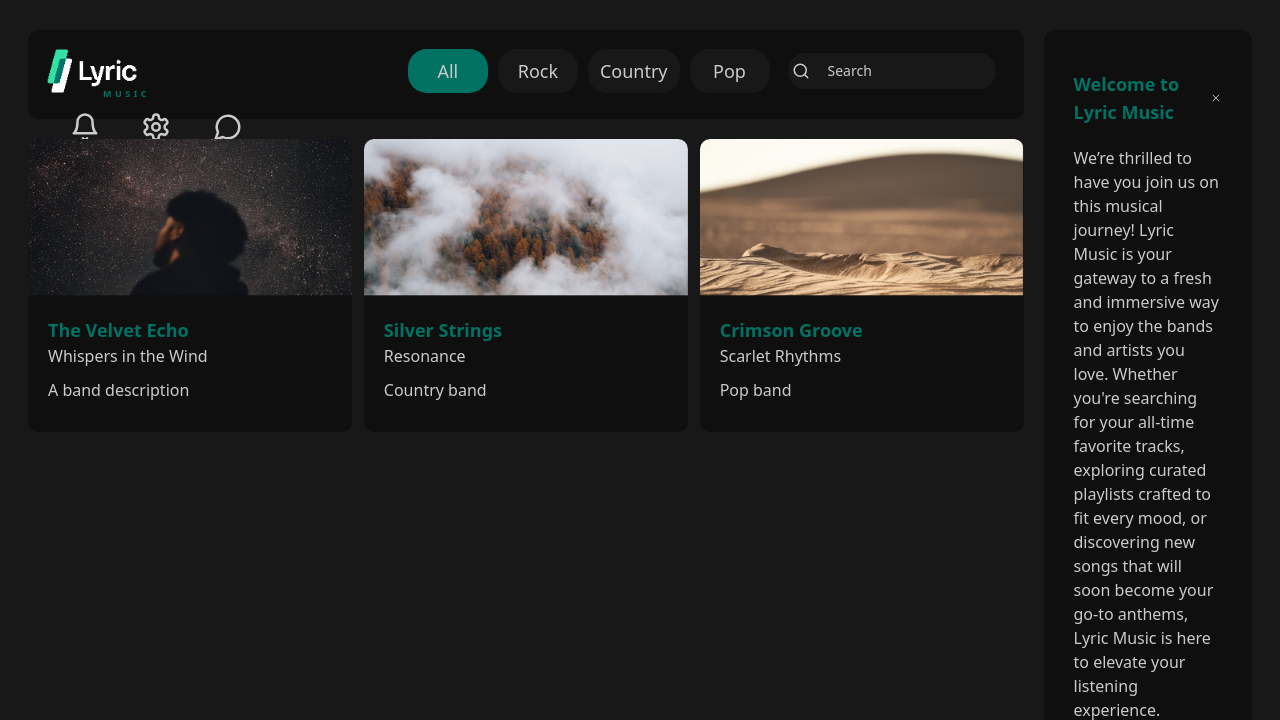
App › filters bands by genre/category when a category is selected
Expected: the heading "The Velvet Echo" is shown, x1=48 y1=318 x2=189 y2=342
# Click on the 'pop' category button
Click the button "pop".
click(730, 71)  # box x1=690 y1=49 x2=770 y2=93
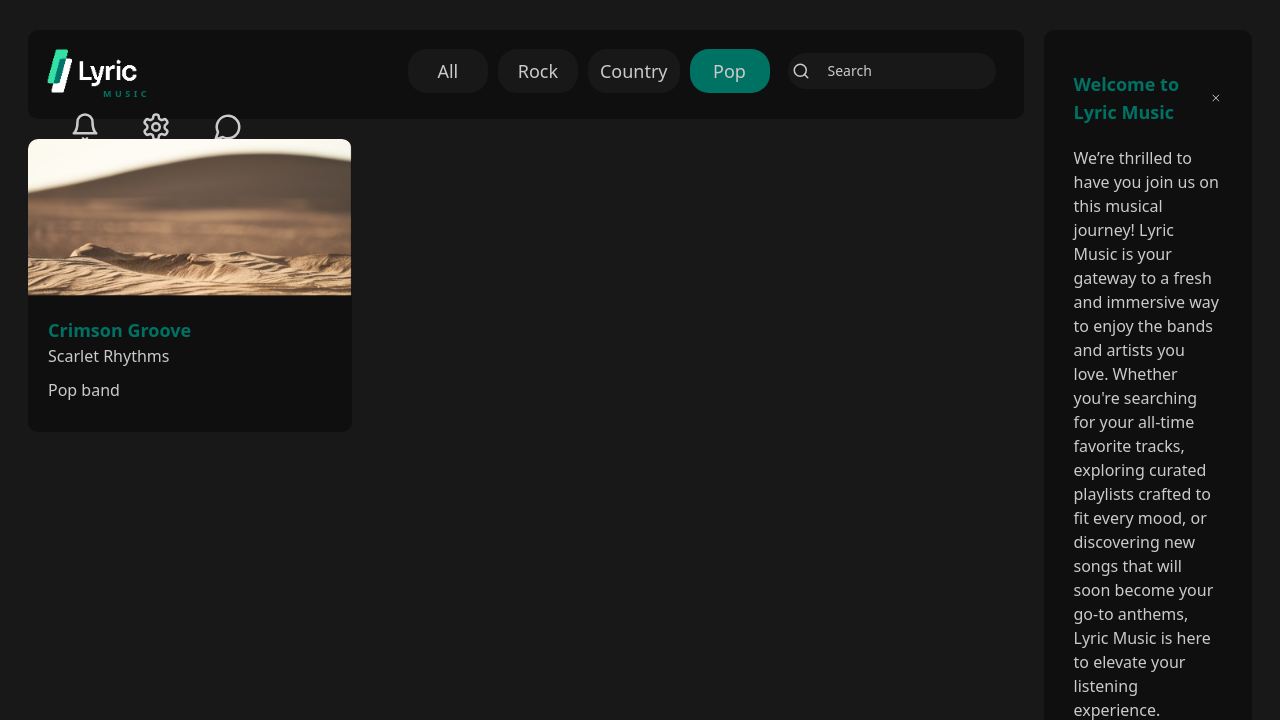
Expected: the heading "Crimson Groove" is shown, x1=48 y1=318 x2=191 y2=342
Result: the heading "The Velvet Echo" is gone
Result: the heading "Silver Strings" is gone
